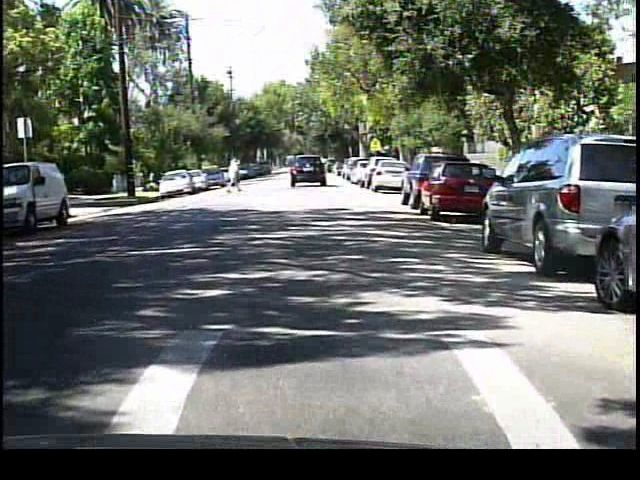person: (223, 152, 245, 195)
